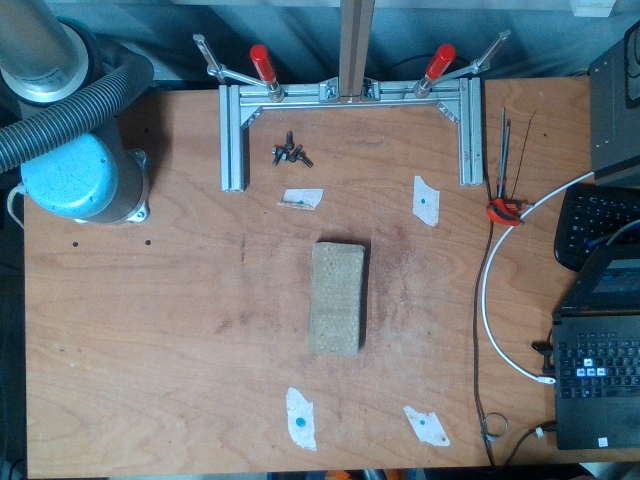brick: (306, 241, 364, 358)
